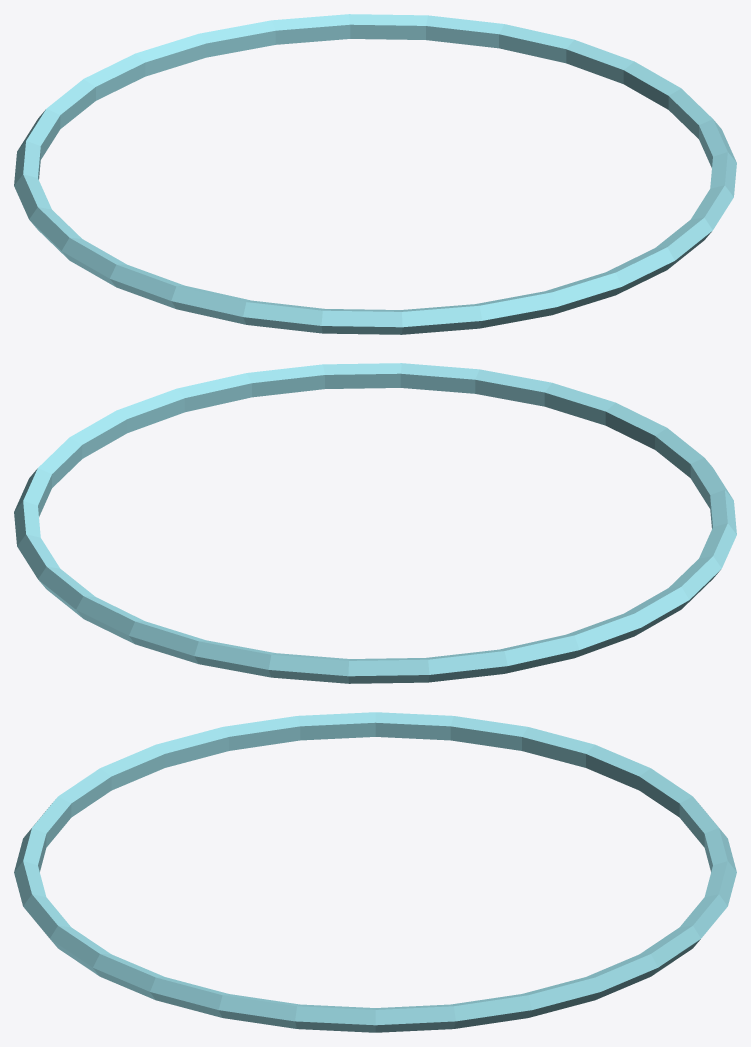
The model's file is halo_auto.glb.
3 views of the same model, one above another, from view 1: azimuth 30°, elevation 25°; view 2: azimuth 150°, elevation 25°; view 3: azimuth 270°, elevation 25° (orthographic).
Parts seen in each view (by area): view 1: halo_auto; view 2: halo_auto; view 3: halo_auto.
Part boxes in pixels (bbox=[...]): halo_auto: bbox=[14, 14, 736, 334]; halo_auto: bbox=[14, 363, 736, 683]; halo_auto: bbox=[14, 712, 736, 1032].
Bounding box in the file's own units: 1.91 × 0.0666 × 1.91.
